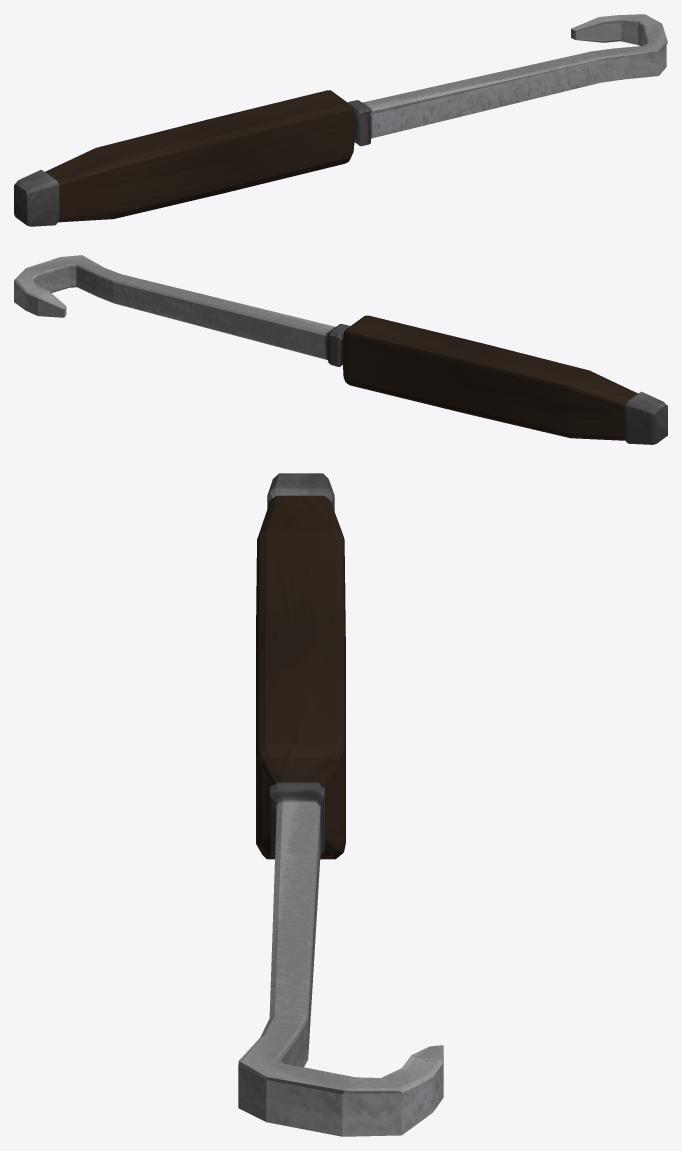
Rendered from hook.fbx.
3 renders of one model, top to bottom at view 1: azimuth 30°, elevation 25°; view 2: azimuth 150°, elevation 25°; view 3: azimuth 270°, elevation 25°, orthographic. The views are drawn at different scales.
Visible parts, largest first — view 1: hook; view 2: hook; view 3: hook.
Part boxes in pixels (x1,y1,x2,y2): hook: (14, 14, 667, 226); hook: (14, 255, 667, 444); hook: (238, 473, 443, 1136).
Bounding box in the file's own units: 0.217 × 0.0189 × 0.0309.
1 material, 1 textured.
